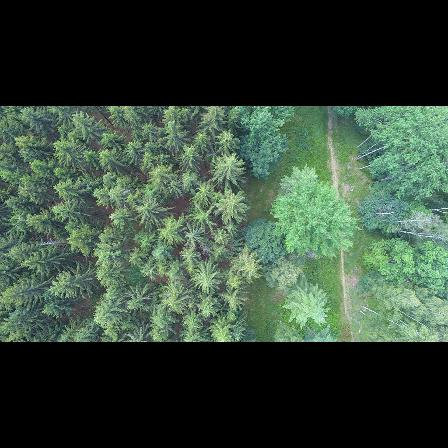Dead: (396, 228, 443, 245), (34, 234, 67, 249)
Sick: (198, 241, 211, 256)
